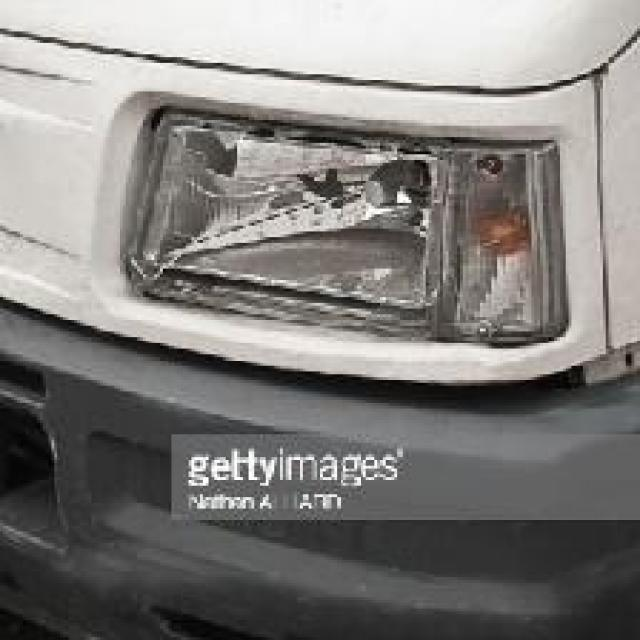damaged: (142, 111, 452, 358)
